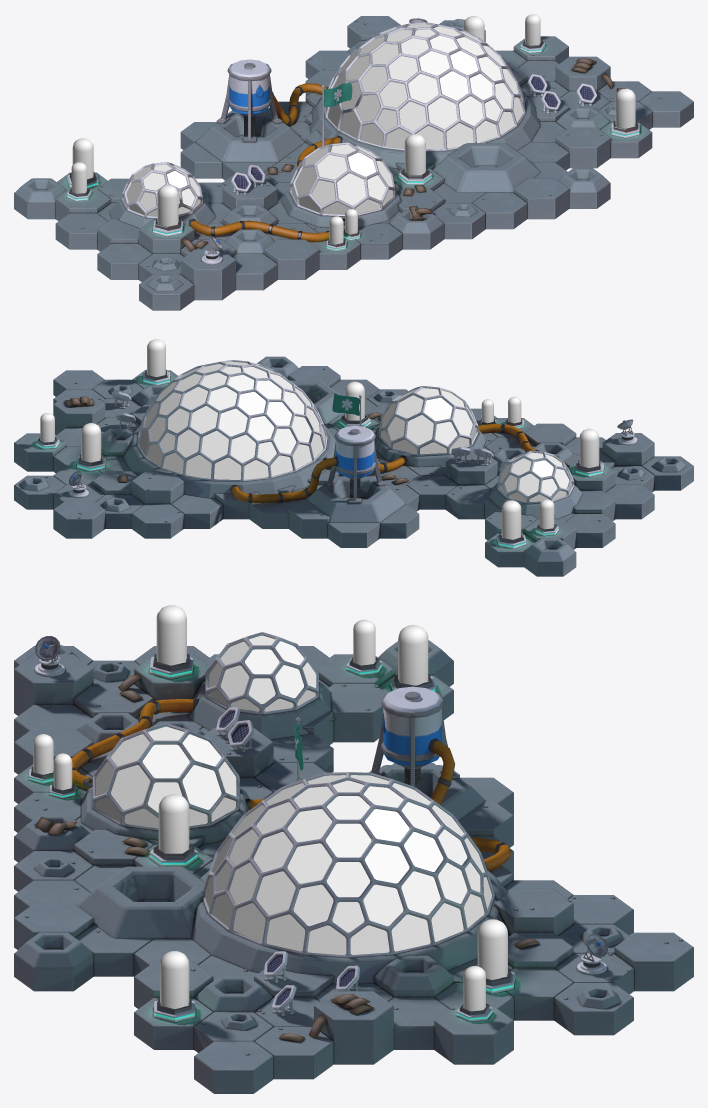
The model's file is 1765404010980-Faction03.glb.
3 views of the same model, one above another, from view 1: azimuth 30°, elevation 25°; view 2: azimuth 150°, elevation 25°; view 3: azimuth 270°, elevation 25° (orthographic). The views are drawn at different scales.
Parts seen in each view (by area): view 1: FACTION.01, Cristal Dome (mt).009, Base dome.007, Cristal Dome (mt).001, Crater.009, Crater.008, Base dome.008, Icosphere.011, Cylinder.230, BézierCurve.029, Cristal Dome (mt).003, Basedome 03.003 (+16 smaller); view 2: FACTION.01, Cristal Dome (mt).009, Base dome.007, Cristal Dome (mt).001, Base dome.008, Crater.008, Cristal Dome (mt).003, Cylinder.230, Icosphere.011, BézierCurve.029, Basedome 03.003, Icosphere.012 (+18 smaller); view 3: FACTION.01, Cristal Dome (mt).009, Base dome.007, Cristal Dome (mt).001, Crater.009, Base dome.008, Cristal Dome (mt).003, Cylinder.230, Icosphere.011, BézierCurve.029, Basedome 03.003, Icosphere.013 (+20 smaller).
Boxes of the visible parts, box(x1,y1,x2,y2) form: FACTION.01: box(14, 16, 693, 310); Cristal Dome (mt).009: box(325, 24, 523, 149); Base dome.007: box(324, 22, 525, 151); Cristal Dome (mt).001: box(291, 144, 393, 214); Crater.009: box(433, 143, 540, 192); Crater.008: box(195, 113, 304, 162); Base dome.008: box(309, 91, 540, 168); Icosphere.011: box(289, 142, 395, 216); Cylinder.230: box(227, 59, 271, 137); BézierCurve.029: box(190, 83, 340, 241); Cristal Dome (mt).003: box(123, 164, 200, 216); Basedome 03.003: box(121, 162, 203, 218); FACTION.01: box(14, 366, 693, 576); Cristal Dome (mt).009: box(139, 361, 325, 479); Base dome.007: box(137, 360, 327, 481); Cristal Dome (mt).001: box(380, 388, 476, 454); Base dome.008: box(123, 425, 335, 498); Crater.008: box(306, 476, 405, 522); Cristal Dome (mt).003: box(499, 452, 572, 501); Cylinder.230: box(334, 425, 375, 499); Icosphere.011: box(378, 386, 478, 456); BézierCurve.029: box(231, 424, 539, 502); Basedome 03.003: box(497, 450, 574, 503); Icosphere.012: box(374, 429, 486, 467); FACTION.01: box(14, 646, 693, 1093); Cristal Dome (mt).009: box(205, 775, 491, 954); Base dome.007: box(203, 772, 495, 957); Cristal Dome (mt).001: box(96, 726, 236, 828); Crater.009: box(77, 866, 205, 938); Base dome.008: box(191, 870, 509, 984); Cristal Dome (mt).003: box(209, 635, 316, 711); Cylinder.230: box(381, 686, 444, 790); Icosphere.011: box(92, 723, 239, 830); BézierCurve.029: box(71, 699, 510, 871); Basedome 03.003: box(205, 632, 318, 714); Icosphere.013: box(188, 681, 334, 739).
Bounding box in the file's own units: 28.99 × 4.84 × 19.62.
25 materials, 24 textured.
